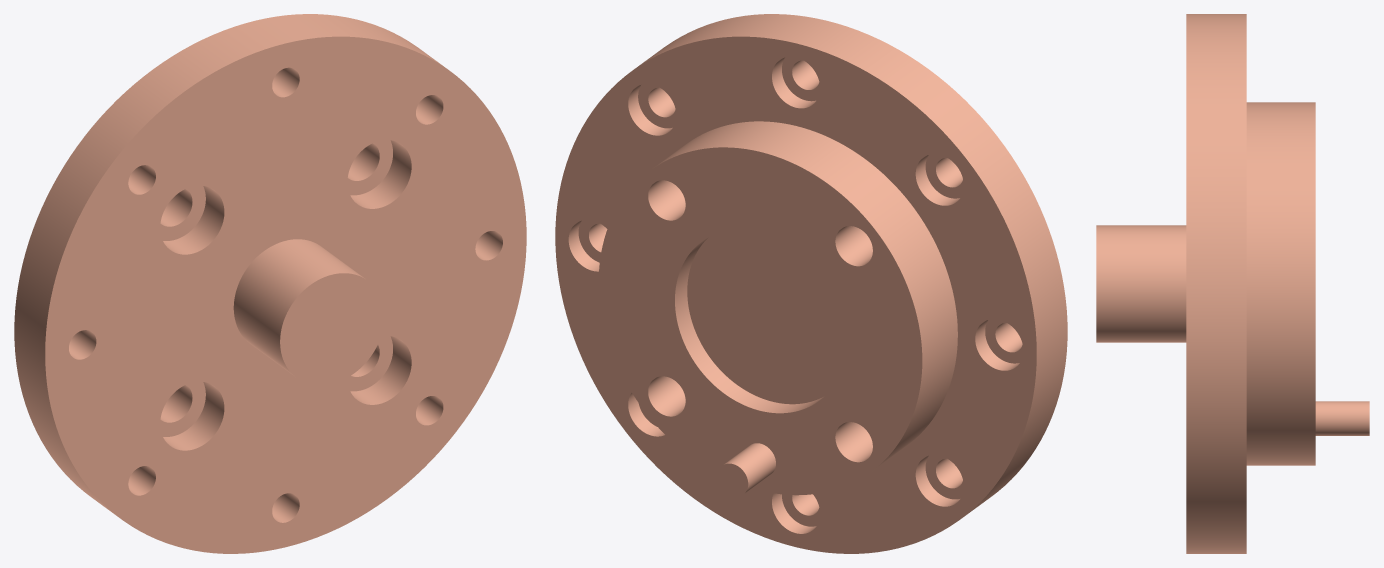
Rendered from adapter_sensor.gltf.
3 renders of one model, left to right at view 1: azimuth 30°, elevation 25°; view 2: azimuth 150°, elevation 25°; view 3: azimuth 270°, elevation 25°, orthographic. The views are drawn at different scales.
Parts seen in each view (by area): view 1: mesh175, mesh150, mesh177, mesh176, mesh137, mesh146, mesh140, mesh143, mesh136, mesh142, mesh145, mesh139 (+11 smaller); view 2: mesh149, mesh133, mesh150, mesh131, mesh134, mesh132, mesh147, mesh138, mesh141, mesh144, mesh135, mesh148 (+12 smaller); view 3: mesh150, mesh134, mesh176, mesh147.
Part boxes in pixels (box(x1,y1,x2,y2)): mesh175: box(45, 36, 526, 553); mesh150: box(14, 14, 443, 516); mesh177: box(280, 273, 384, 385); mesh176: box(233, 239, 364, 375); mesh137: box(163, 382, 224, 450); mesh146: box(163, 186, 224, 254); mesh140: box(350, 336, 411, 404); mesh143: box(350, 140, 411, 208); mesh136: box(160, 381, 205, 436); mesh142: box(347, 140, 392, 195); mesh145: box(160, 185, 205, 240); mesh139: box(347, 336, 392, 391); mesh149: box(555, 36, 1036, 553); mesh133: box(598, 147, 922, 495); mesh150: box(638, 14, 1067, 516); mesh131: box(687, 229, 845, 404); mesh134: box(654, 121, 957, 467); mesh132: box(675, 237, 823, 413); mesh147: box(724, 443, 775, 492); mesh138: box(648, 376, 685, 416); mesh141: box(648, 180, 685, 220); mesh144: box(835, 226, 872, 266); mesh135: box(835, 422, 872, 462); mesh148: box(717, 463, 748, 496); mesh150: box(1186, 14, 1246, 553); mesh134: box(1246, 102, 1315, 465); mesh176: box(1096, 225, 1186, 342); mesh147: box(1315, 401, 1369, 435).
Bounding box in the file's own units: 0.09 × 0.09 × 0.0455.
